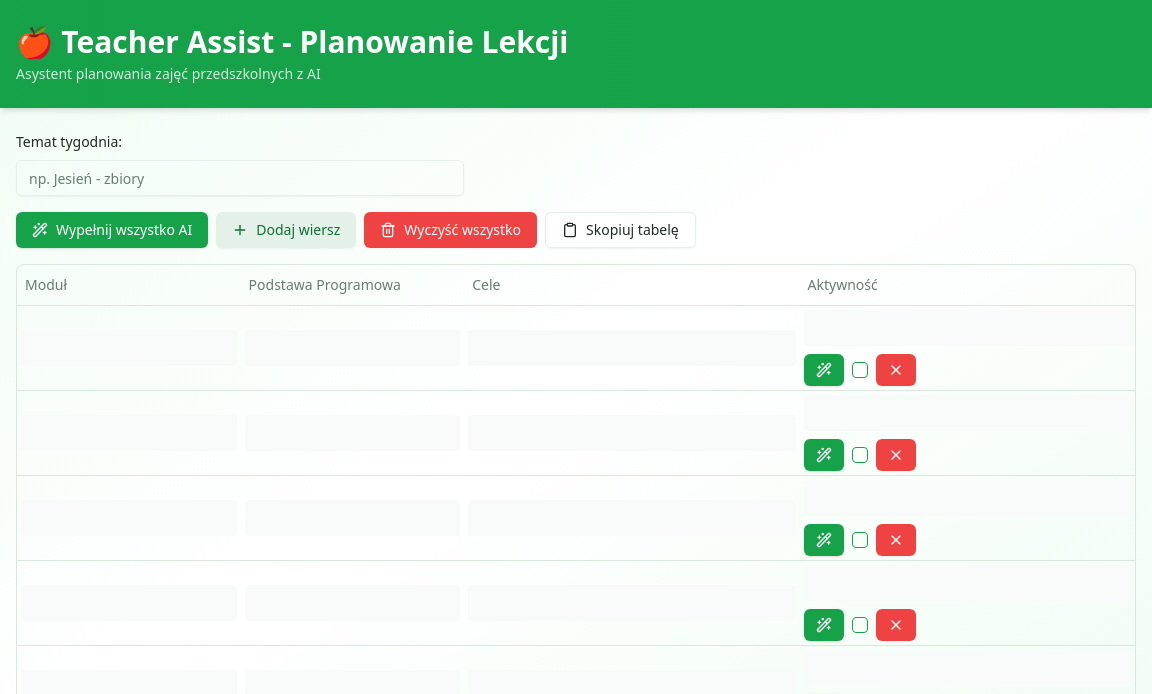
Test: App Integration Tests › should show confirmation dialog when clearing all
Click the button "Wyczyść wszystko".
click(451, 230)  # box [364, 212, 537, 248]
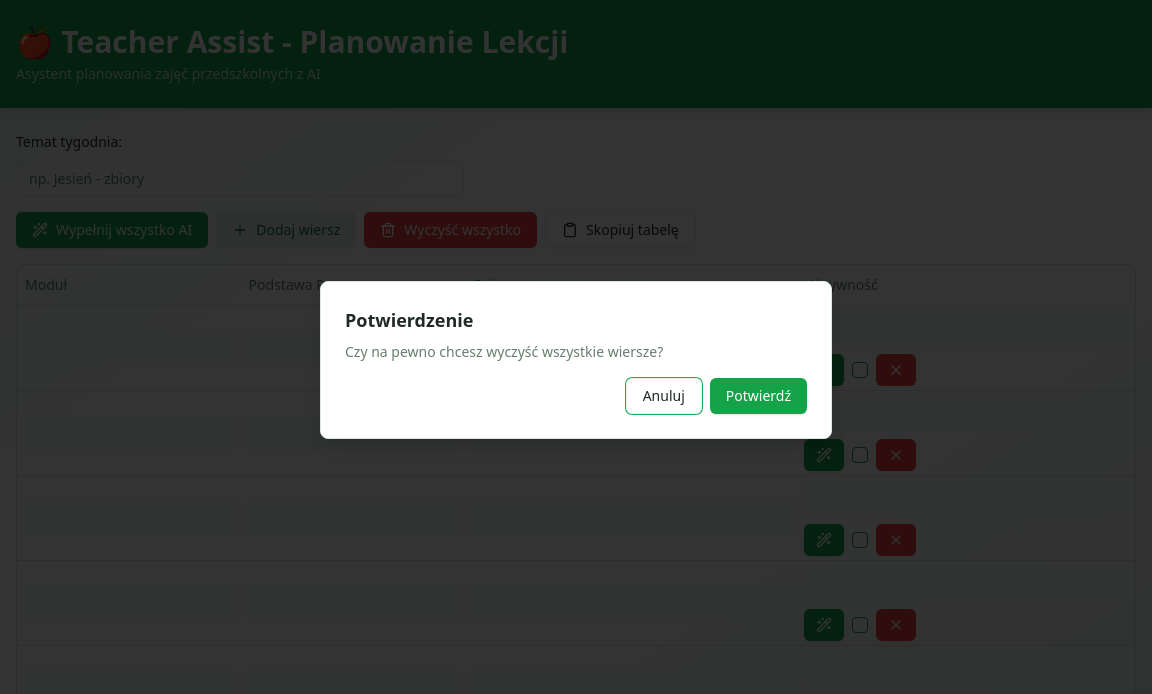
Check: the text "Czy na pewno chcesz wyczyść wszystkie wiersze?" is shown, box [345, 342, 663, 361]
